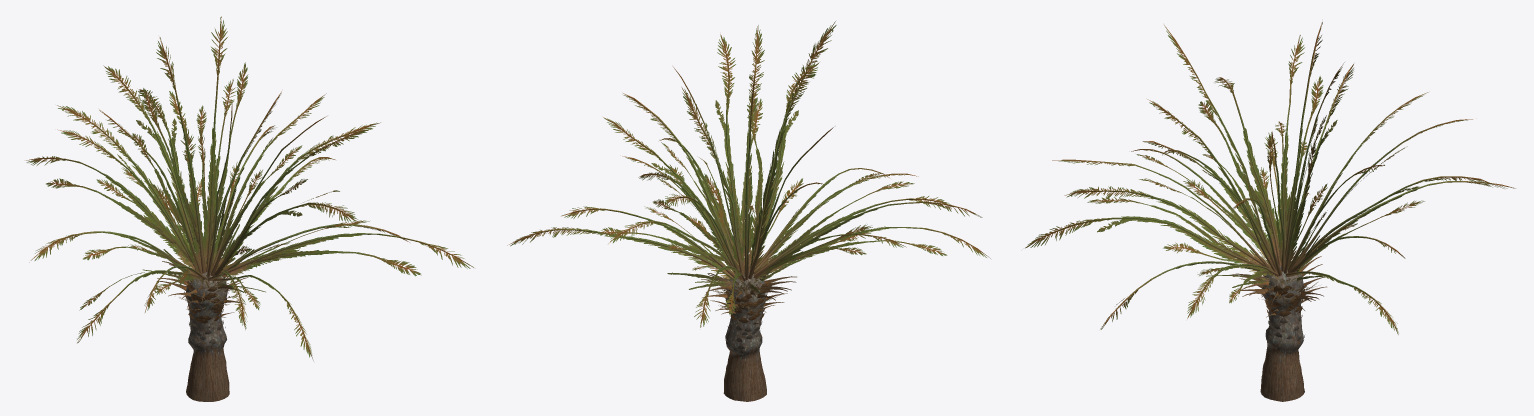
The model's file is Plant - Alien Plant 03 2-DoTc2Wbf.glb.
3 views of the same model, side by side, from view 1: azimuth 30°, elevation 25°; view 2: azimuth 150°, elevation 25°; view 3: azimuth 270°, elevation 25° (orthographic). The views are drawn at different scales.
Parts seen in each view (by area): view 1: Plant3_2_L0(Clone); view 2: Plant3_2_L0(Clone); view 3: Plant3_2_L0(Clone).
Boxes of the visible parts, left/top/right/bottom form: Plant3_2_L0(Clone): left=26, top=16, right=473, bottom=401; Plant3_2_L0(Clone): left=507, top=21, right=990, bottom=401; Plant3_2_L0(Clone): left=1025, top=22, right=1515, bottom=401.
Bounding box in the file's own units: 6.29 × 5.24 × 6.61.
Materials: 3 (3 with a texture image).
